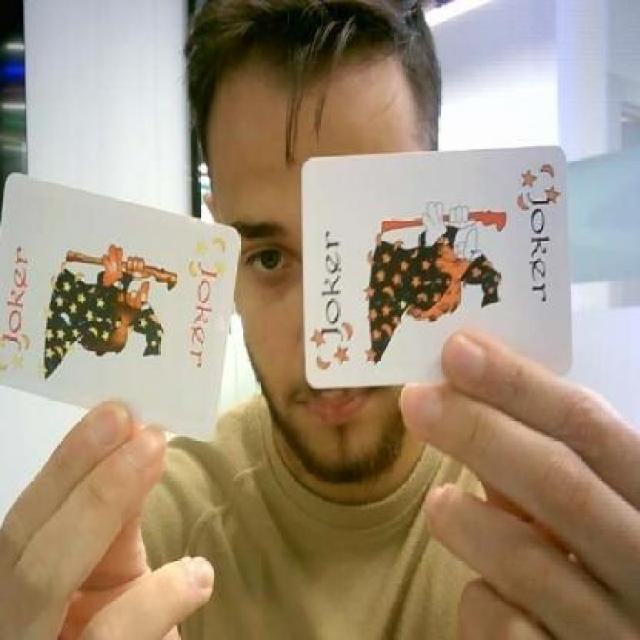RED JOKER: (309, 223, 356, 374), (513, 165, 559, 306), (184, 235, 224, 370), (0, 240, 38, 377)
